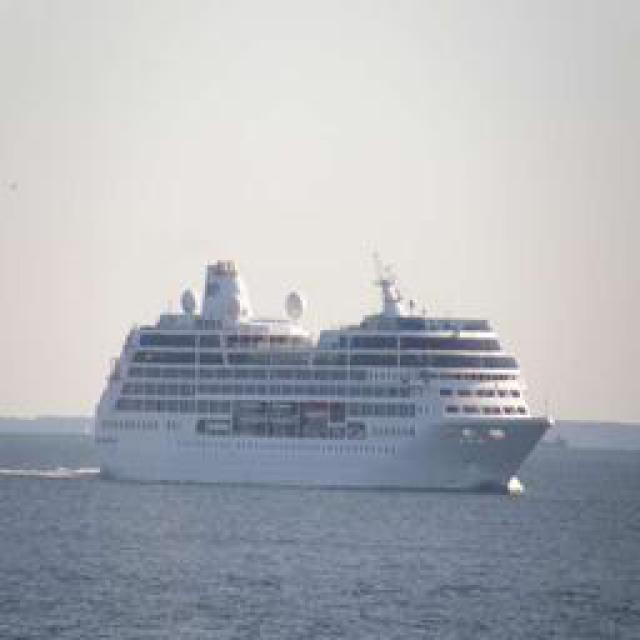Ship: (89, 255, 554, 495)
